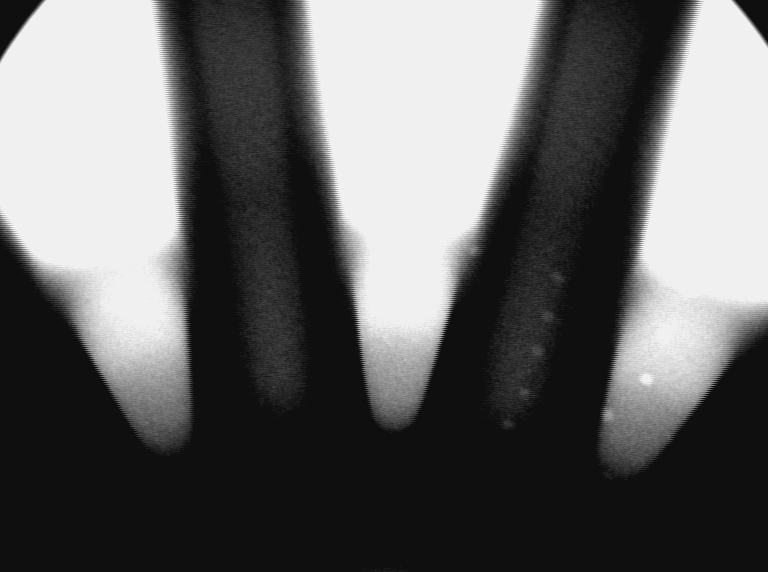defect: (654, 323, 681, 350)
